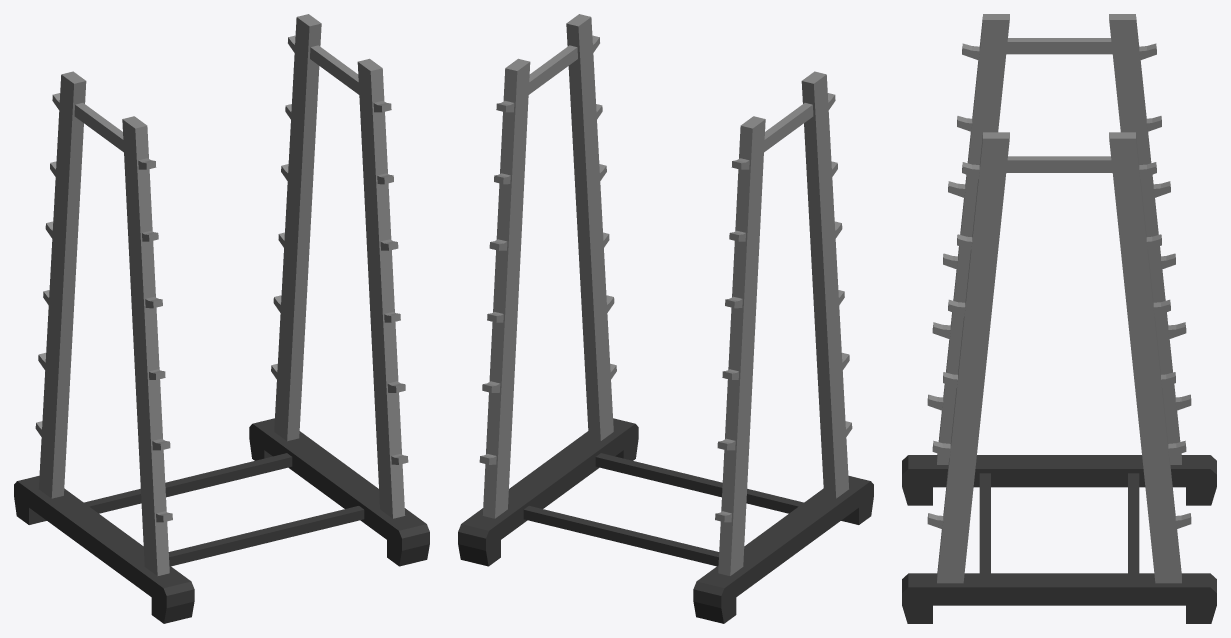
Rendered from barbell_stand.glb.
The picture shows the model from 3 angles, left to right: view 1: azimuth 30°, elevation 25°; view 2: azimuth 150°, elevation 25°; view 3: azimuth 270°, elevation 25°; orthographic projection. The views are drawn at different scales.
Parts seen in each view (by area): view 1: Barbell_Stand_1; view 2: Barbell_Stand_1; view 3: Barbell_Stand_1.
Part boxes in pixels (bbox=[...]): Barbell_Stand_1: bbox=[14, 14, 429, 623]; Barbell_Stand_1: bbox=[458, 14, 873, 623]; Barbell_Stand_1: bbox=[902, 14, 1216, 623].
Size of the model in its own units: 1.24 by 2.11 by 1.25.
1 material, 1 textured.
